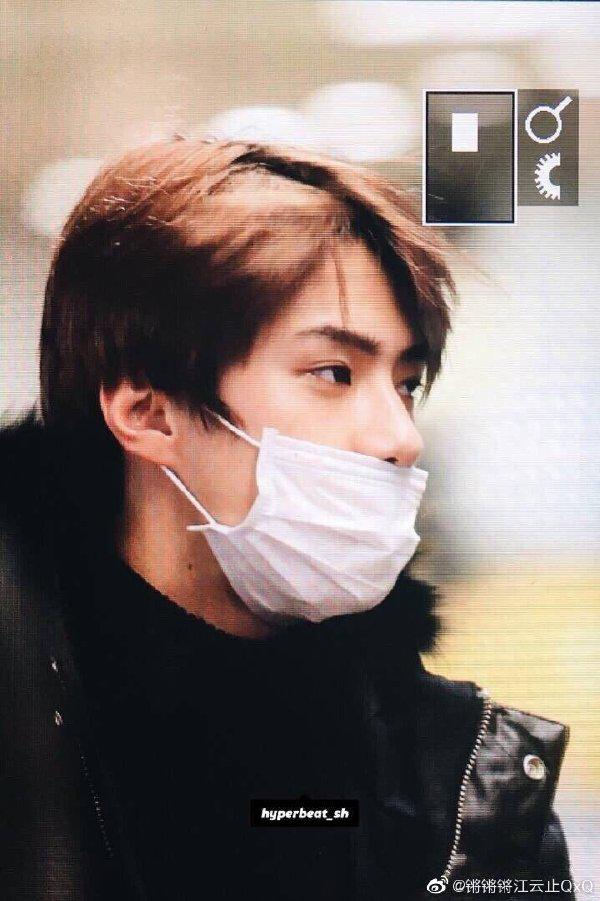WRONG: (201, 285, 433, 621)
